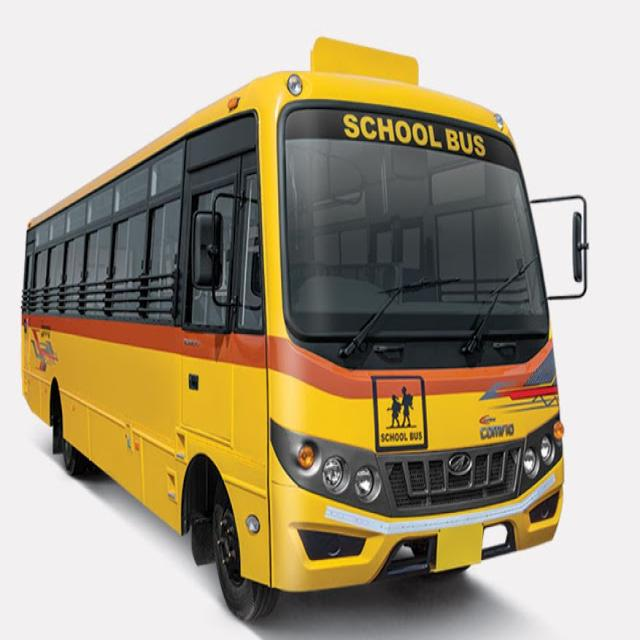bus: (21, 40, 564, 621)
